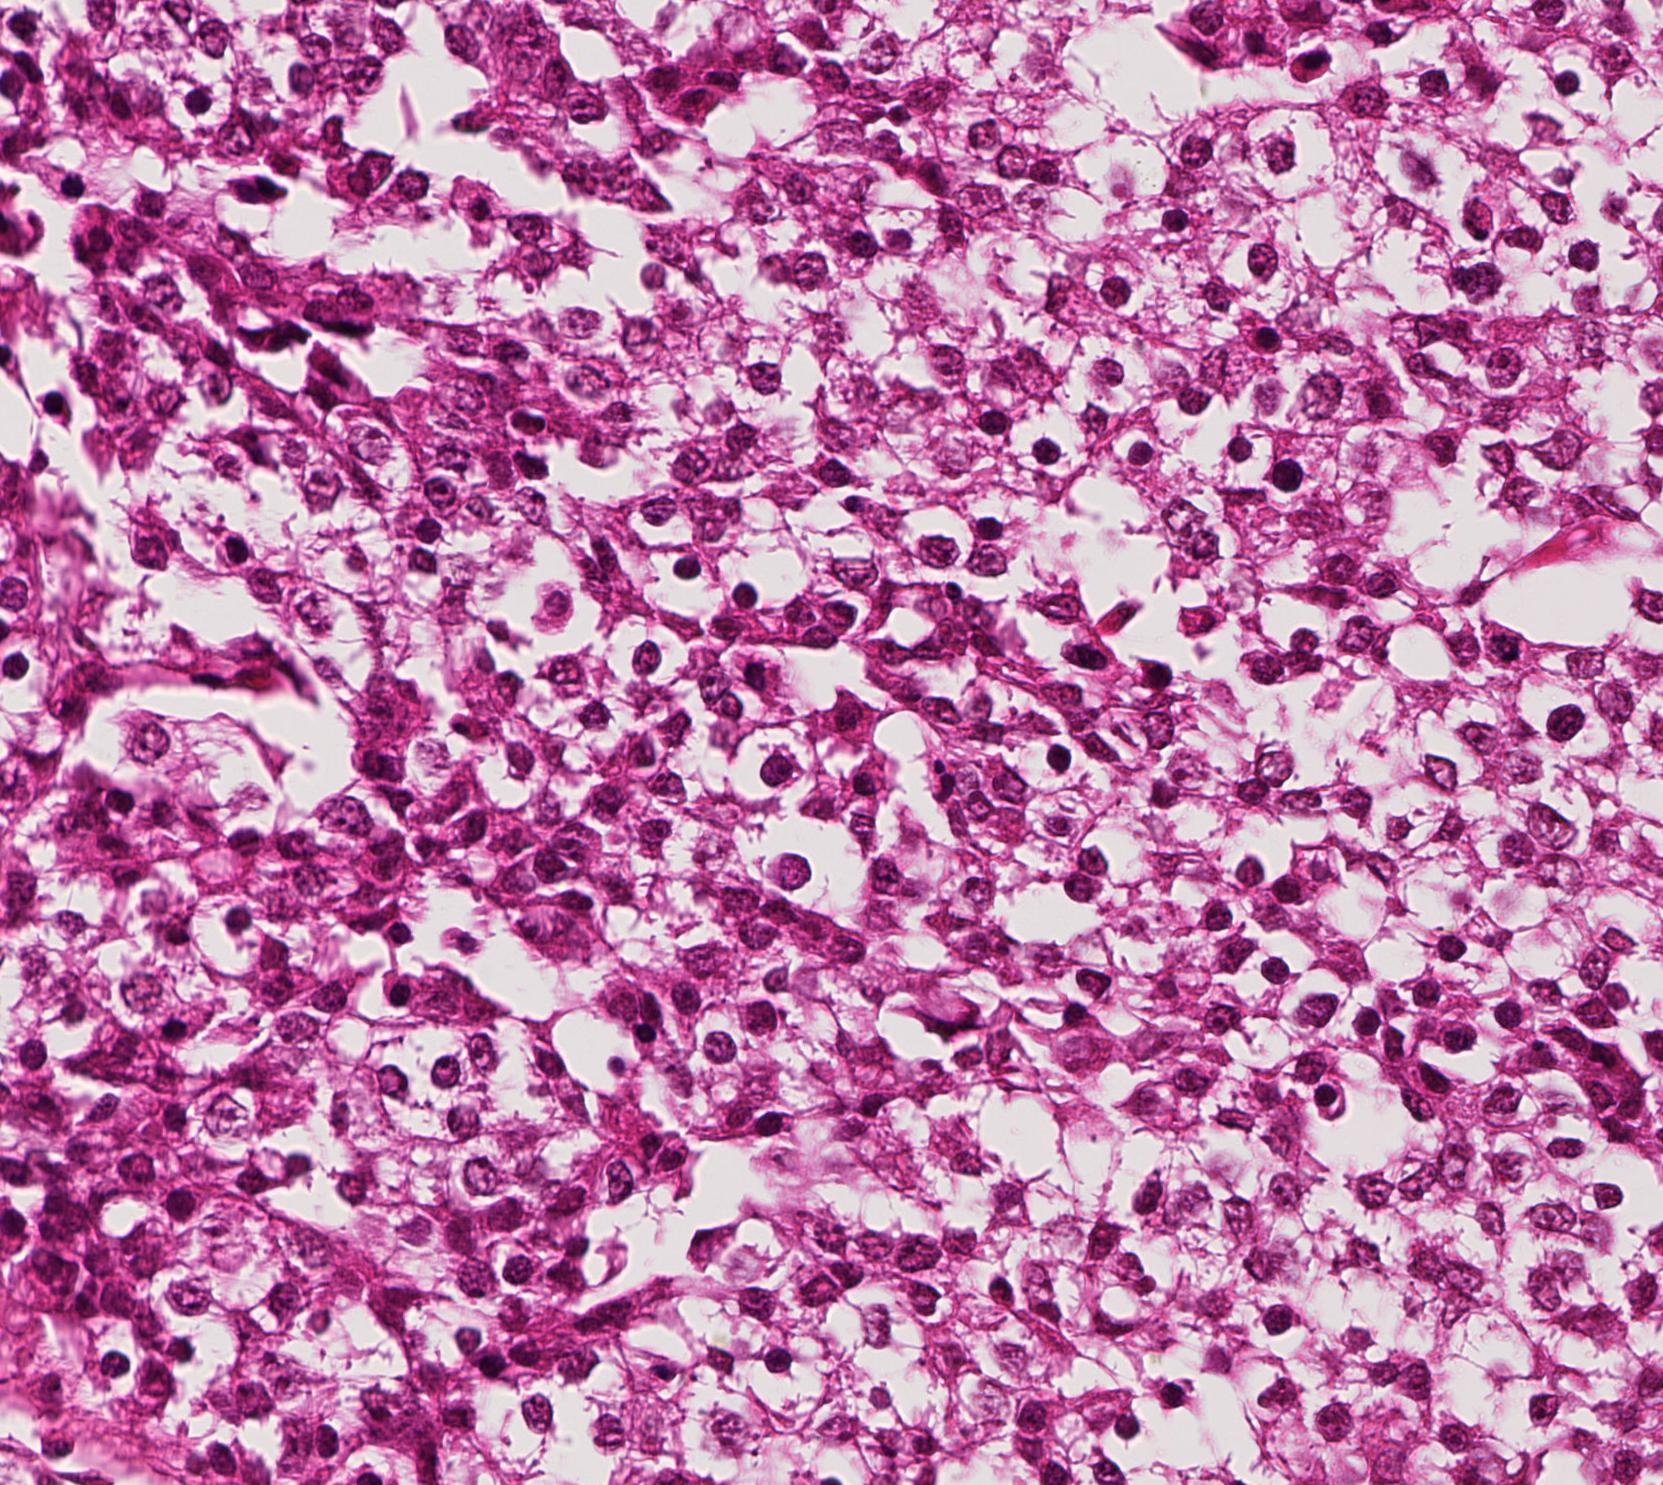mitosis: (1472, 618, 1533, 678)
